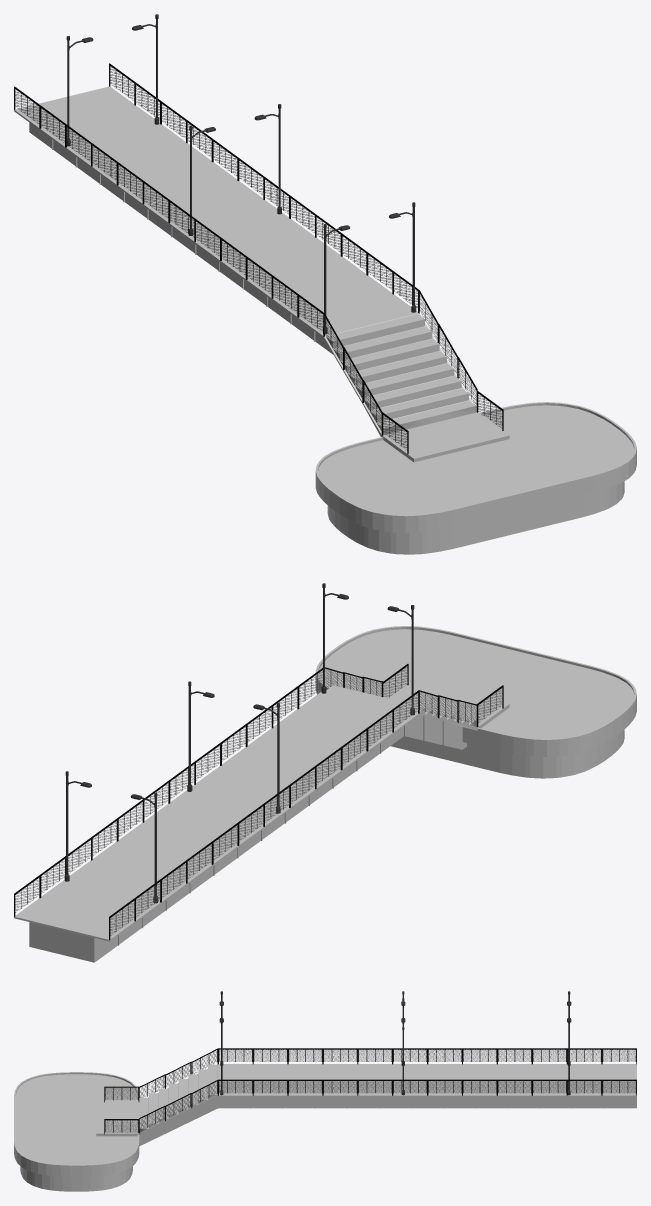
File: Prichal.fbx
3 views of the same model, one above another, from view 1: azimuth 30°, elevation 25°; view 2: azimuth 150°, elevation 25°; view 3: azimuth 270°, elevation 25° (orthographic). The views are drawn at different scales.
Parts seen in each view (by area): view 1: Plane.006, Plane.013, Street_Light_1.001; view 2: Plane.006, Plane.013, Street_Light_1.001; view 3: Plane.006, Plane.013, Street_Light_1.001.
Part boxes in pixels (x1,y1,x2,y2): Plane.006: (14, 86, 636, 554); Plane.013: (14, 63, 503, 454); Street_Light_1.001: (66, 14, 416, 334); Plane.006: (14, 626, 636, 962); Plane.013: (14, 664, 503, 939); Street_Light_1.001: (64, 583, 414, 903); Plane.006: (14, 1064, 636, 1191); Plane.013: (104, 1048, 636, 1134); Street_Light_1.001: (219, 991, 571, 1095).
Size of the model in its own units: 1201 by 853 by 3387.
